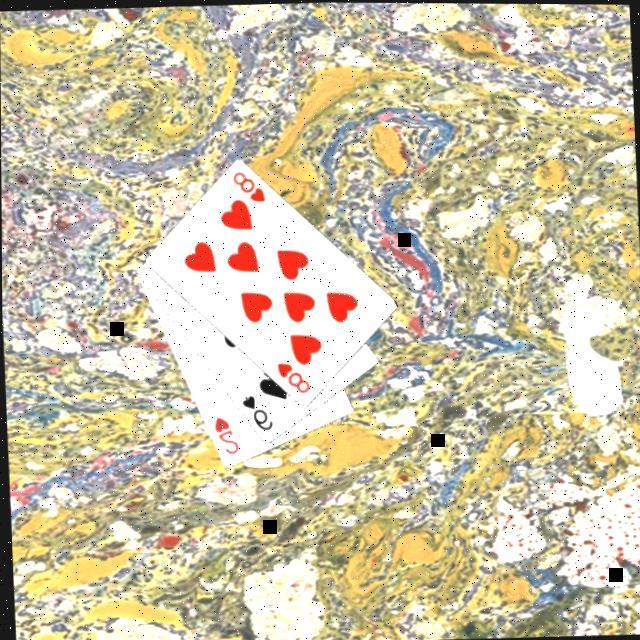2H: (211, 411, 243, 456)
6S: (240, 390, 276, 433)
8H: (274, 356, 314, 396), (230, 166, 269, 204)
